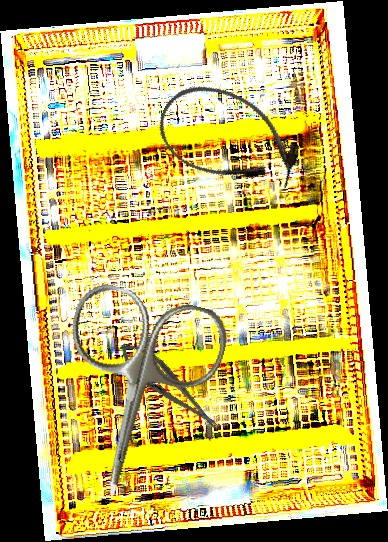Cannula: (147, 70, 312, 206)
Iris Scissors: (34, 278, 234, 514)
Needle Holder: (111, 333, 226, 439)
